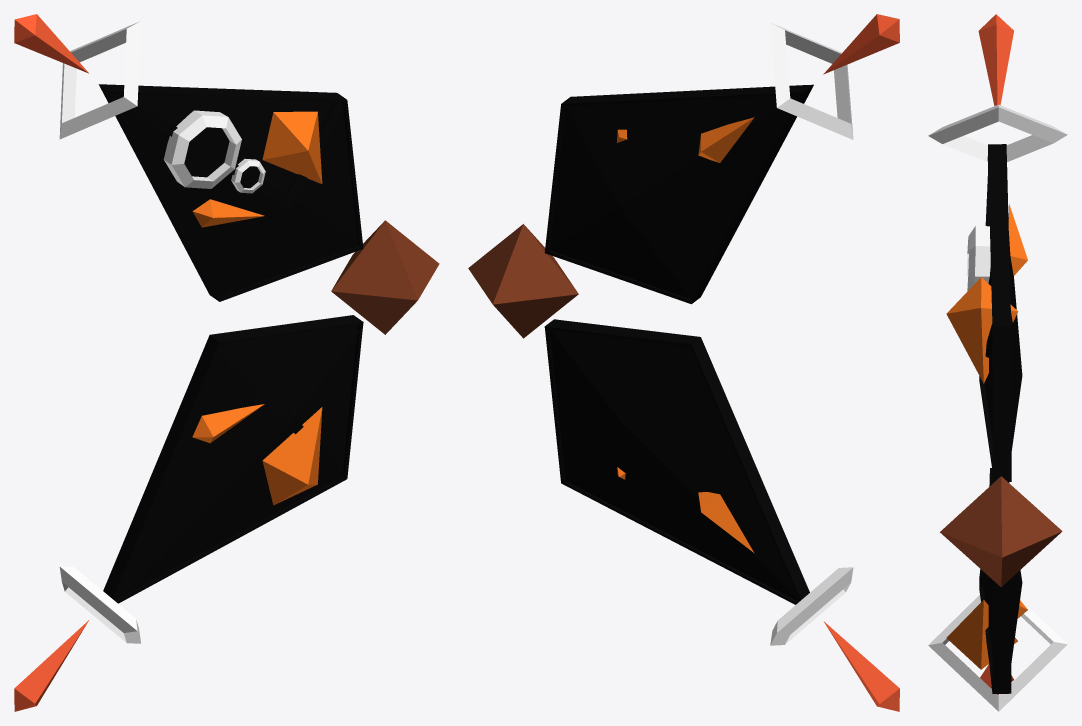
The model's file is BossEnemy2_left.fbx.
3 views of the same model, side by side, from view 1: azimuth 30°, elevation 25°; view 2: azimuth 150°, elevation 25°; view 3: azimuth 270°, elevation 25° (orthographic). The views are drawn at different scales.
Visible parts, largest first — view 1: BossEnemy2_left; view 2: BossEnemy2_left; view 3: BossEnemy2_left.
Boxes of the visible parts, left/top/right/bottom form: BossEnemy2_left: left=14, top=14, right=439, bottom=711; BossEnemy2_left: left=468, top=14, right=899, bottom=711; BossEnemy2_left: left=928, top=14, right=1067, bottom=711.
Size of the model in its own units: 1197 by 1849 by 349.
